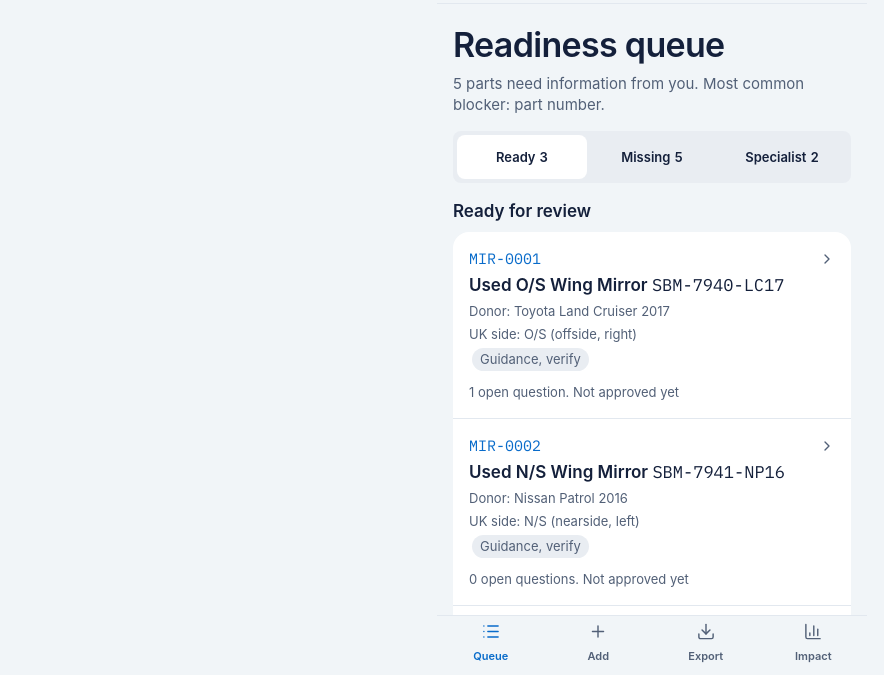
Test: choosing Missing shows MIR-0004 to MIR-0008 and changes the URL
The width and height of the screenshot is (884, 675).
Click the tab "Missing 5": [652, 157] box [587,135,717,179]
(page scrolled)
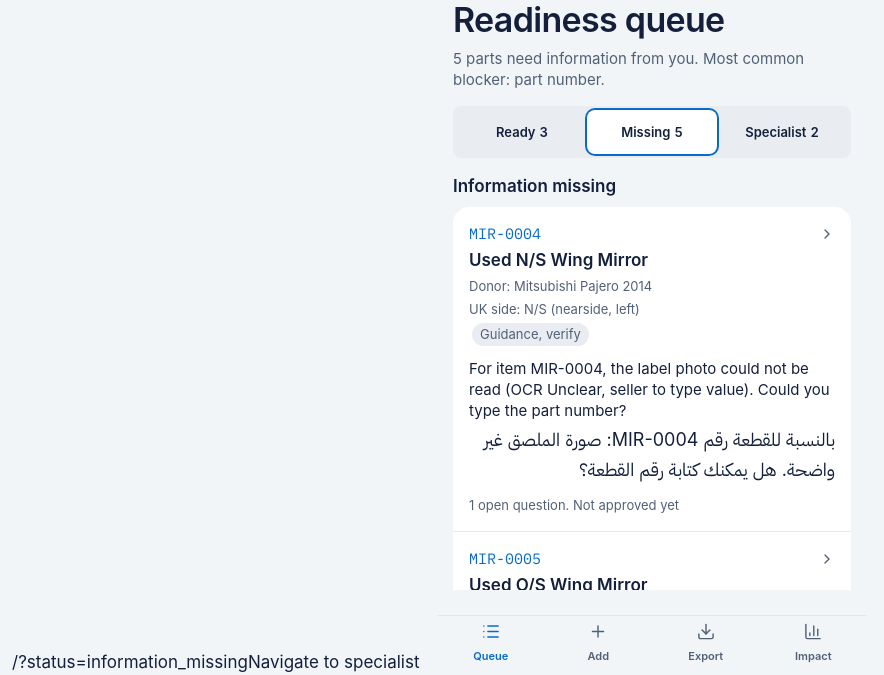
Now the link with aria-label "Review MIR-0004" is shown, box [453,207,851,531]
Now the text with test id "url" reads "/?status=information_missing", box [18,652,248,672]
